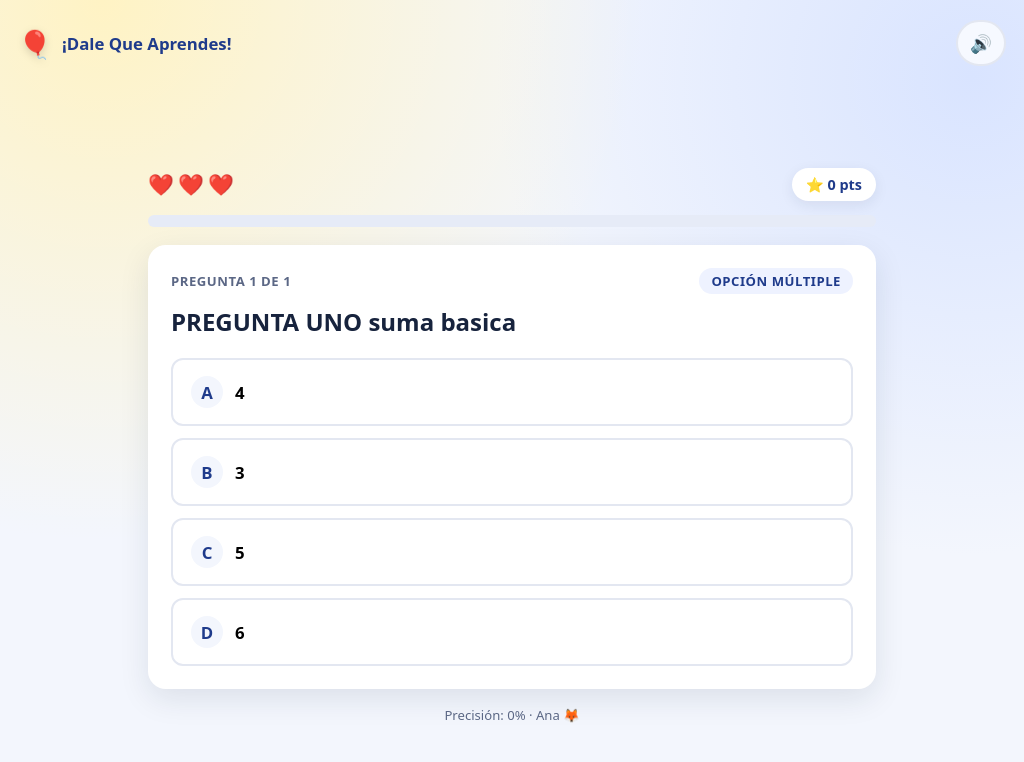
Test case: Juego del estudiante › suma puntos al responder correctamente
Expected: the text "PREGUNTA UNO suma basica" is shown, x1=171 y1=305 x2=516 y2=338
Step 1. Click the button with class "opcion" showing "A 4" → (207, 392), box x1=171 y1=358 x2=853 y2=426
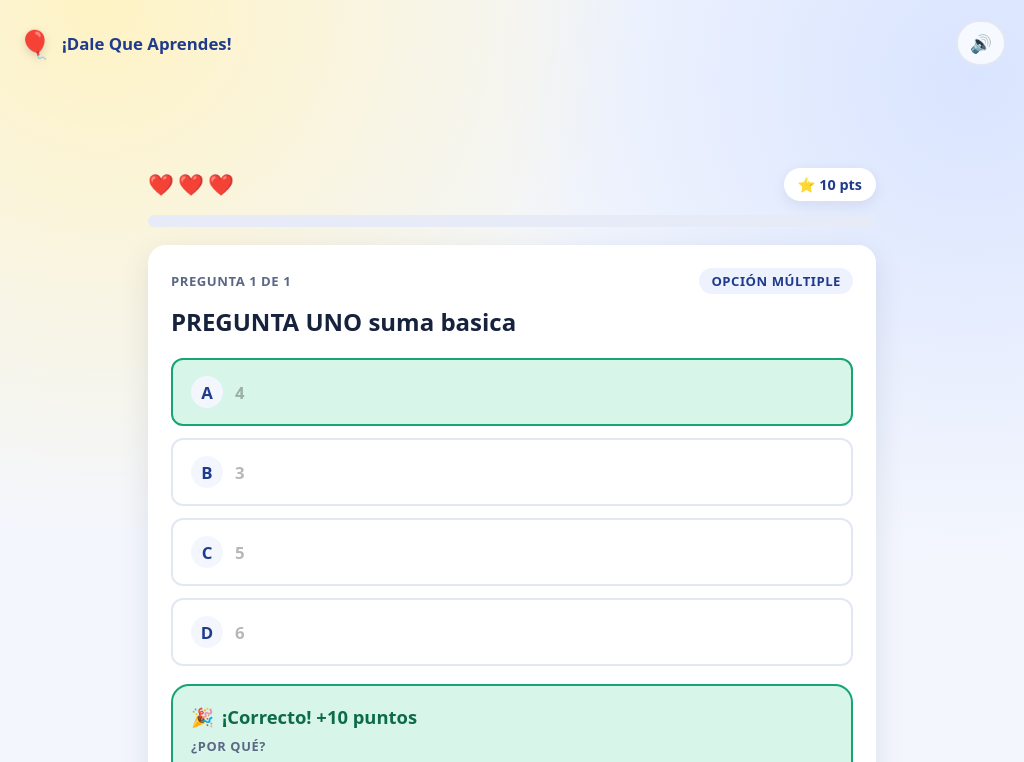
Now the text "⭐ 10 pts" is shown, box x1=784 y1=168 x2=876 y2=201
